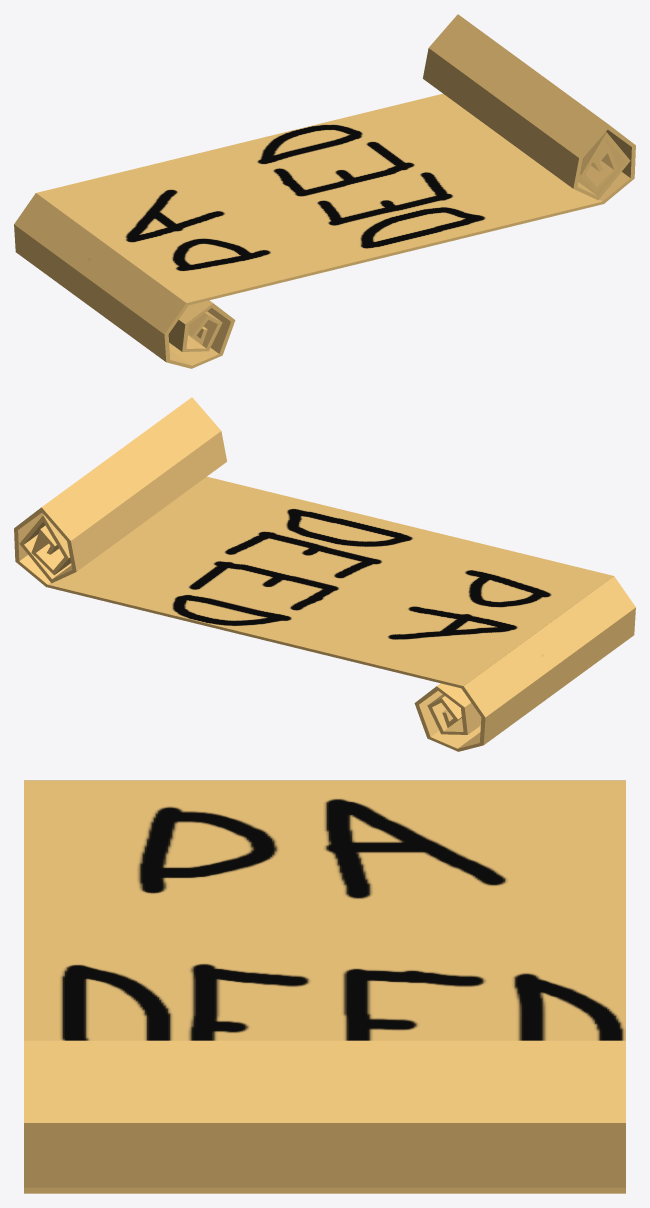
File: deed.fbx
The picture shows the model from 3 angles, top to bottom: view 1: azimuth 30°, elevation 25°; view 2: azimuth 150°, elevation 25°; view 3: azimuth 270°, elevation 25°; orthographic projection. The views are drawn at different scales.
Parts seen in each view (by area): view 1: Bake_Deed; view 2: Bake_Deed; view 3: Bake_Deed.
Boxes of the visible parts, x1,y1,x2,y2 form: Bake_Deed: (14, 14, 635, 368); Bake_Deed: (14, 397, 635, 751); Bake_Deed: (24, 780, 625, 1193).
Size of the model in its own units: 362 by 105 by 200.
